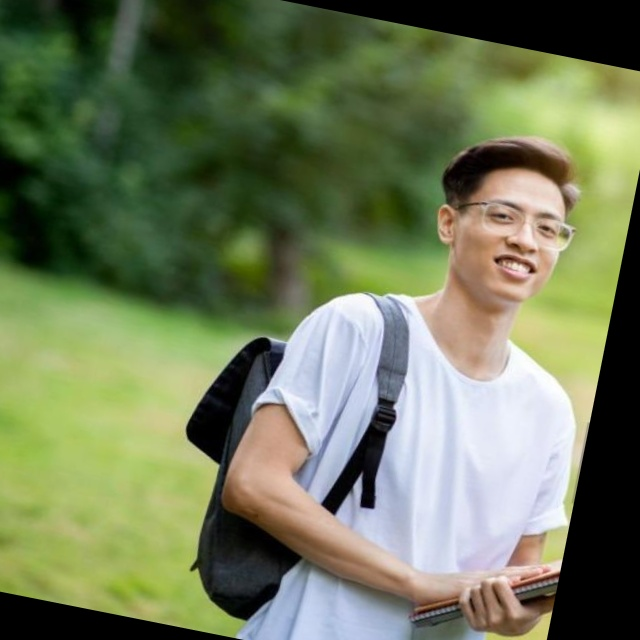Sin_Casco_Mascarrilla: (421, 120, 600, 317)
Sin_Chaleco: (248, 276, 592, 640)
